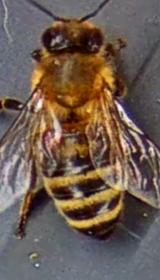varroa_mite: (36, 121, 70, 156)
